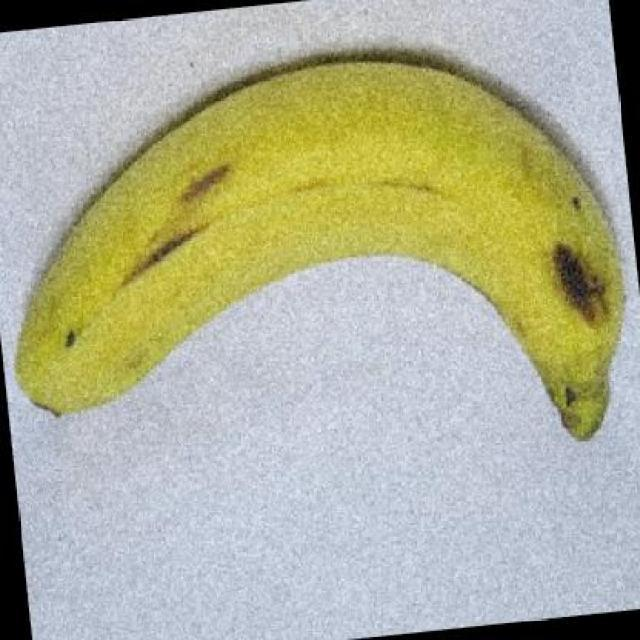ripe: (25, 61, 630, 472)
